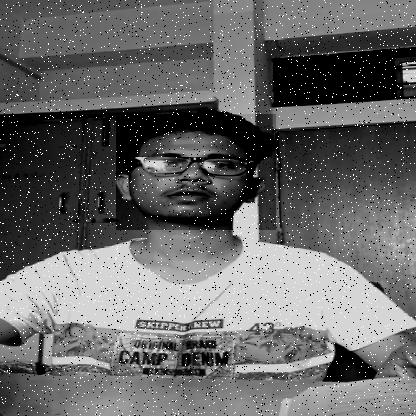Normal: (116, 114, 276, 230)
